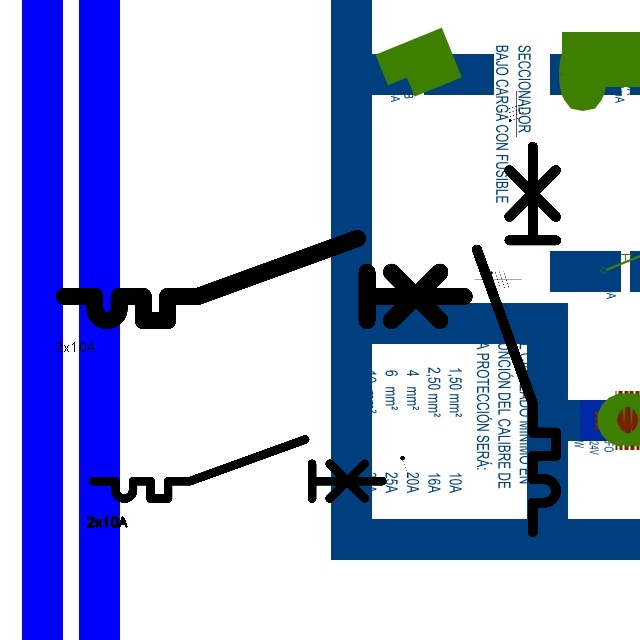interruptor_termomagnetico: (54, 228, 474, 331), (467, 136, 566, 541), (86, 432, 390, 506)
